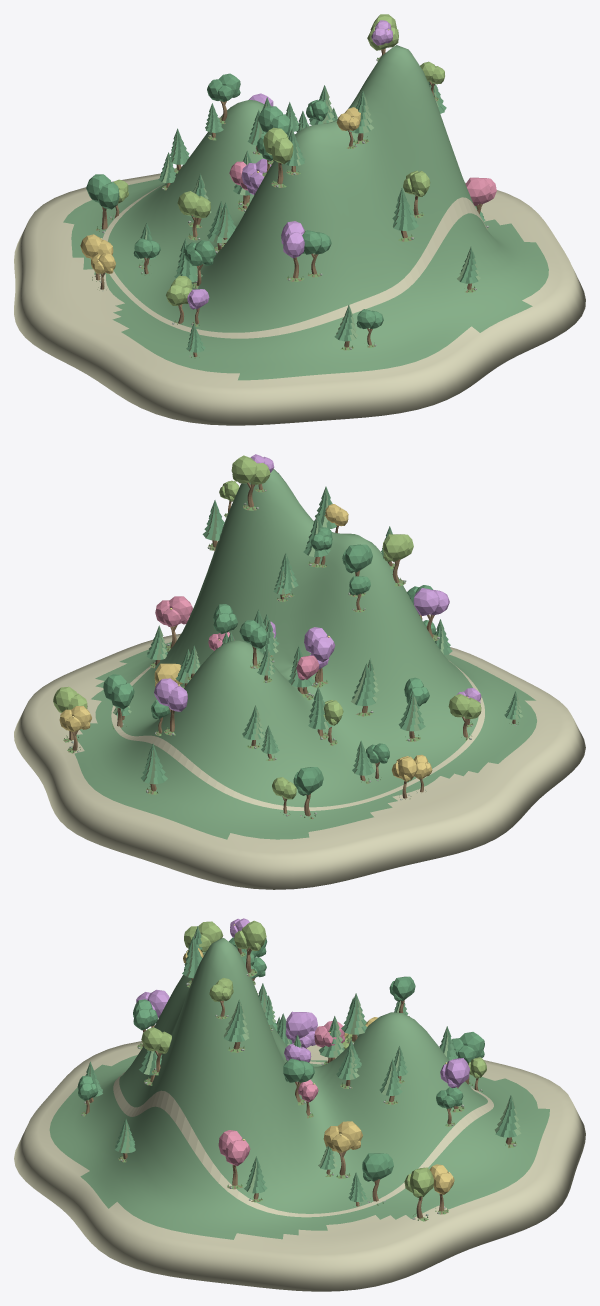
File: green_2.glb
3 views of the same model, one above another, from view 1: azimuth 30°, elevation 25°; view 2: azimuth 150°, elevation 25°; view 3: azimuth 270°, elevation 25° (orthographic). The views are drawn at different scales.
Visible parts, largest first — view 1: Green island with submerged coast; view 2: Green island with submerged coast; view 3: Green island with submerged coast.
Part boxes in pixels (x1,y1,x2,y2): Green island with submerged coast: (14, 14, 585, 425); Green island with submerged coast: (14, 454, 585, 889); Green island with submerged coast: (14, 918, 585, 1291).
Size of the model in its own units: 52.45 by 28.4 by 52.92.
